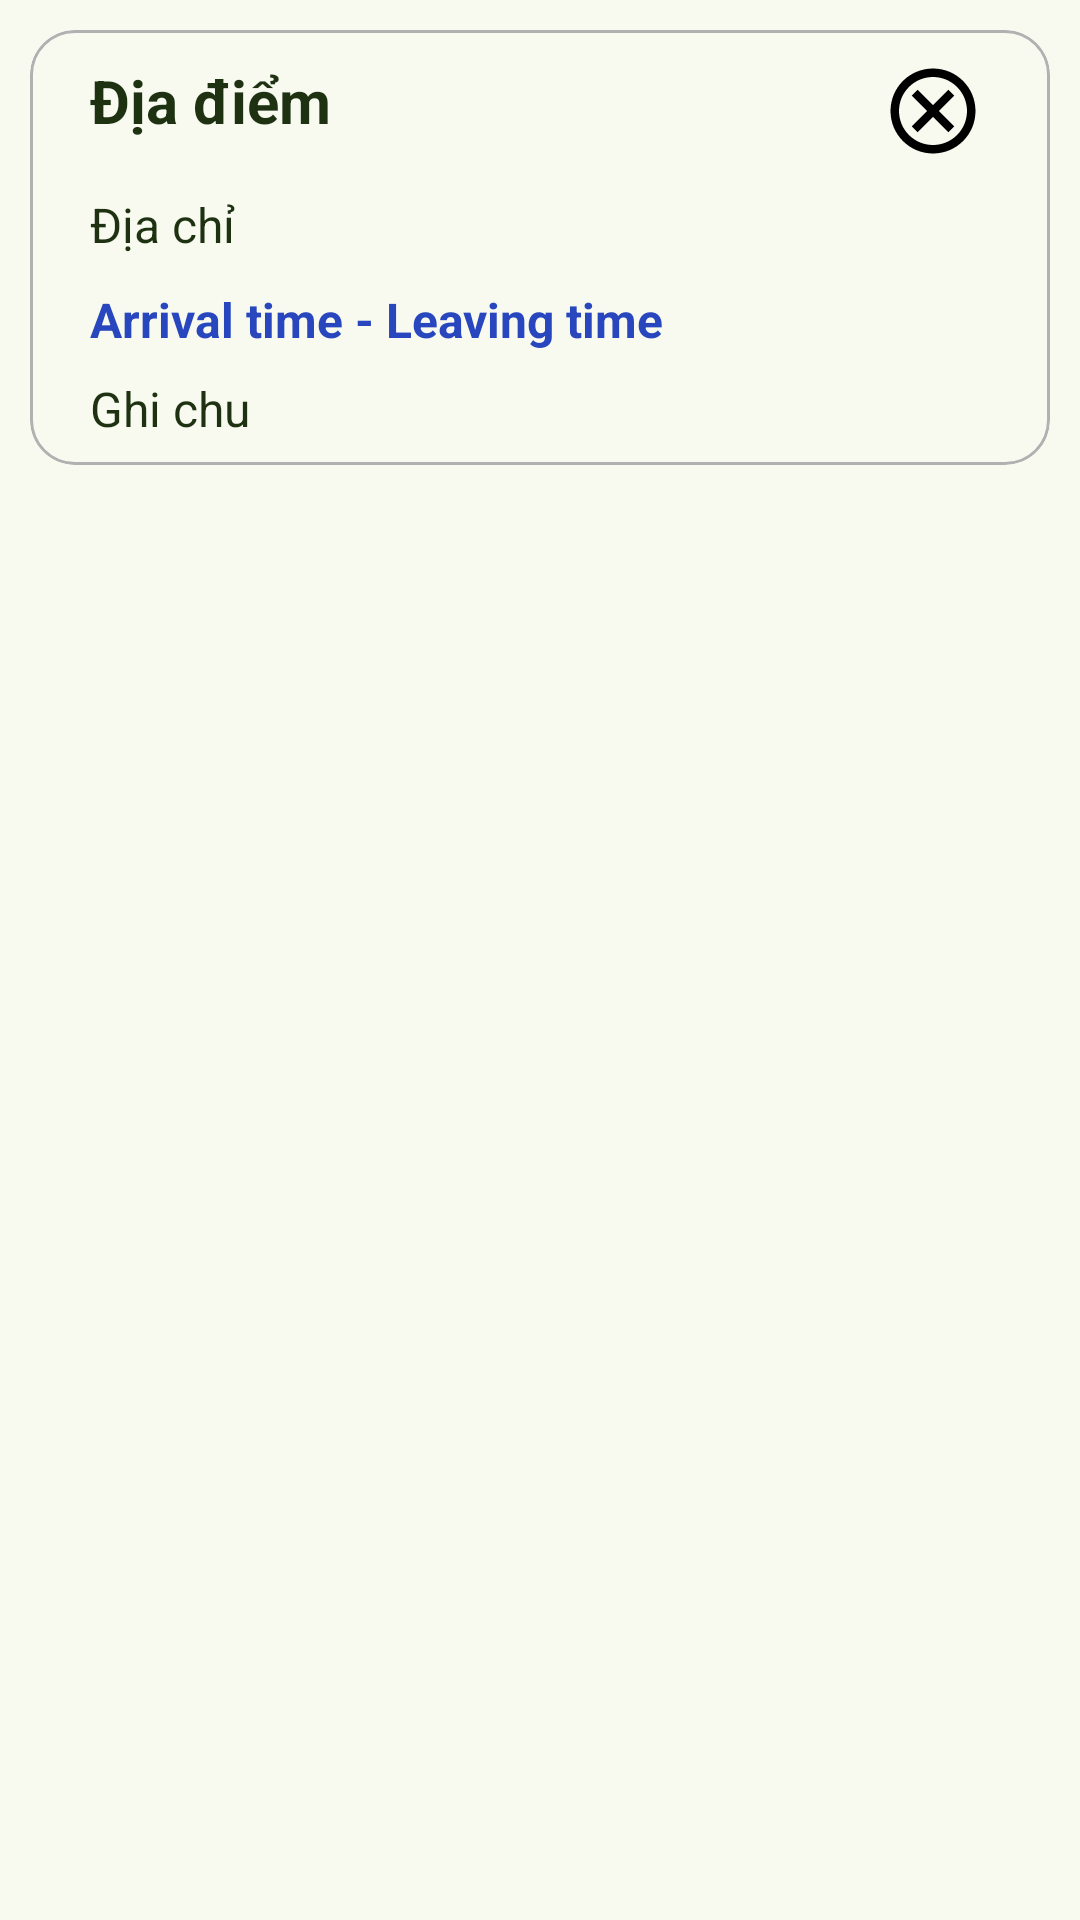

Icon click points for this 1080*1920 phone screenshot, format (x=x, y=y):
cancel: (x=933, y=111)
